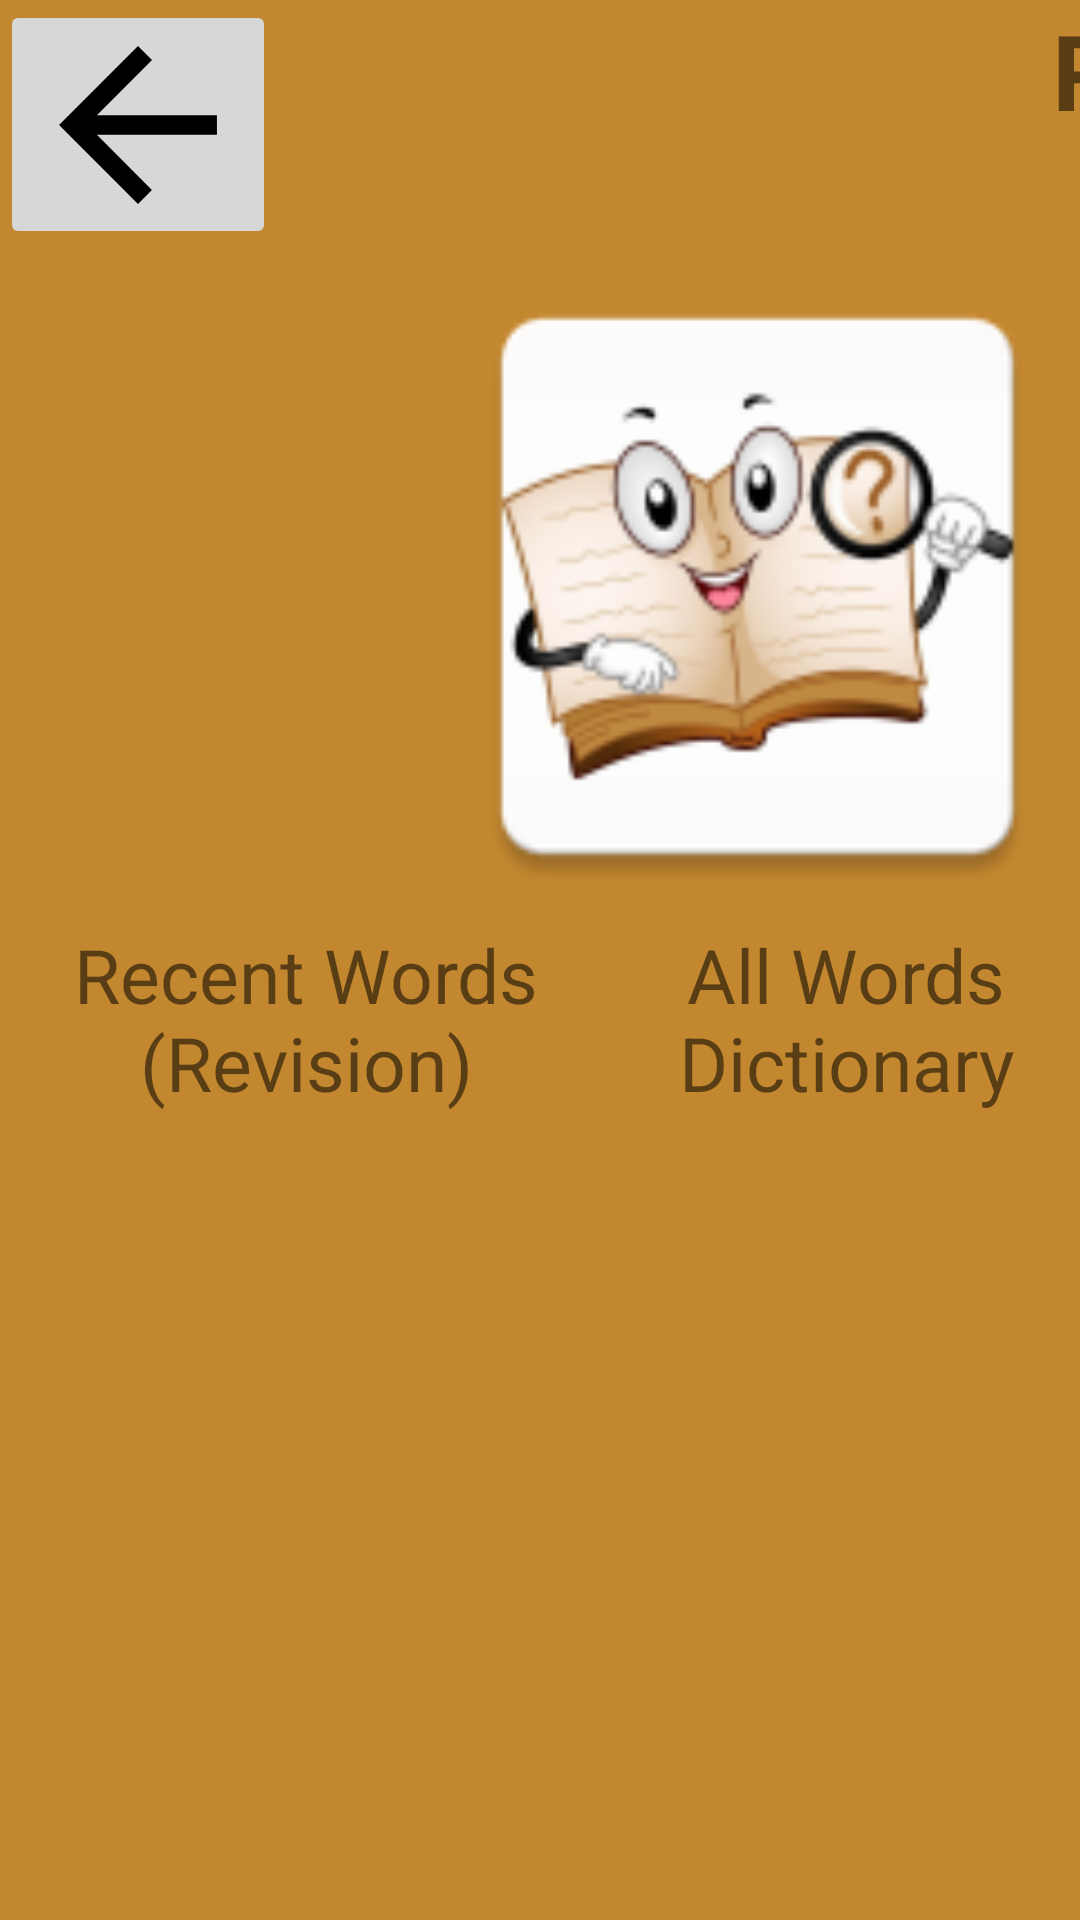

Screen size 1080*1920. Icon name, then its box in pixels as (x1, y1, x2, y2):
back: (12, 18, 264, 231)
